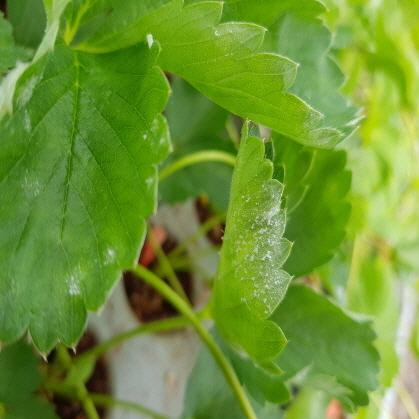Powdery Mildew Leaf: (0, 18, 172, 361), (205, 117, 295, 376)
